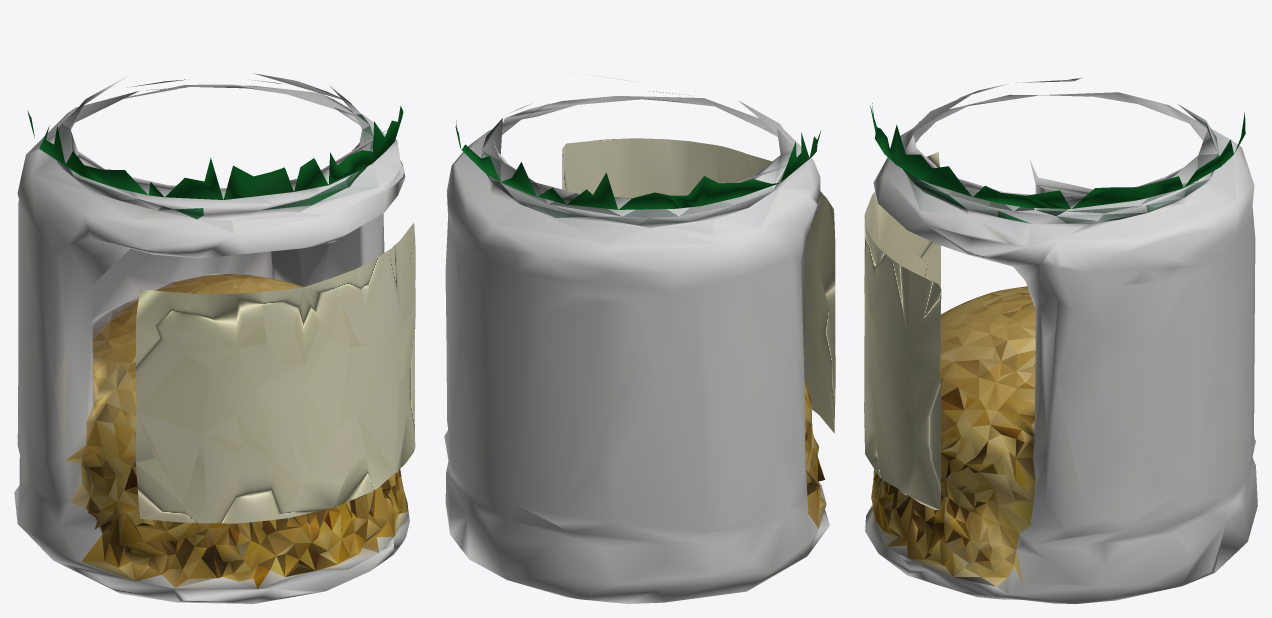
Rendered from jar_body.glb.
3 views of the same model, side by side, from view 1: azimuth 30°, elevation 25°; view 2: azimuth 150°, elevation 25°; view 3: azimuth 270°, elevation 25° (orthographic). The views are drawn at different scales.
Parts seen in each view (by area): view 1: geometry_0; view 2: geometry_0; view 3: geometry_0.
Part boxes in pixels (box(x1,y1,x2,y2)): geometry_0: box(14, 73, 415, 603); geometry_0: box(444, 71, 835, 603); geometry_0: box(864, 77, 1257, 603).
Bounding box in the file's own units: 0.0497 × 0.0625 × 0.0505.
Materials: 1 (1 with a texture image).
